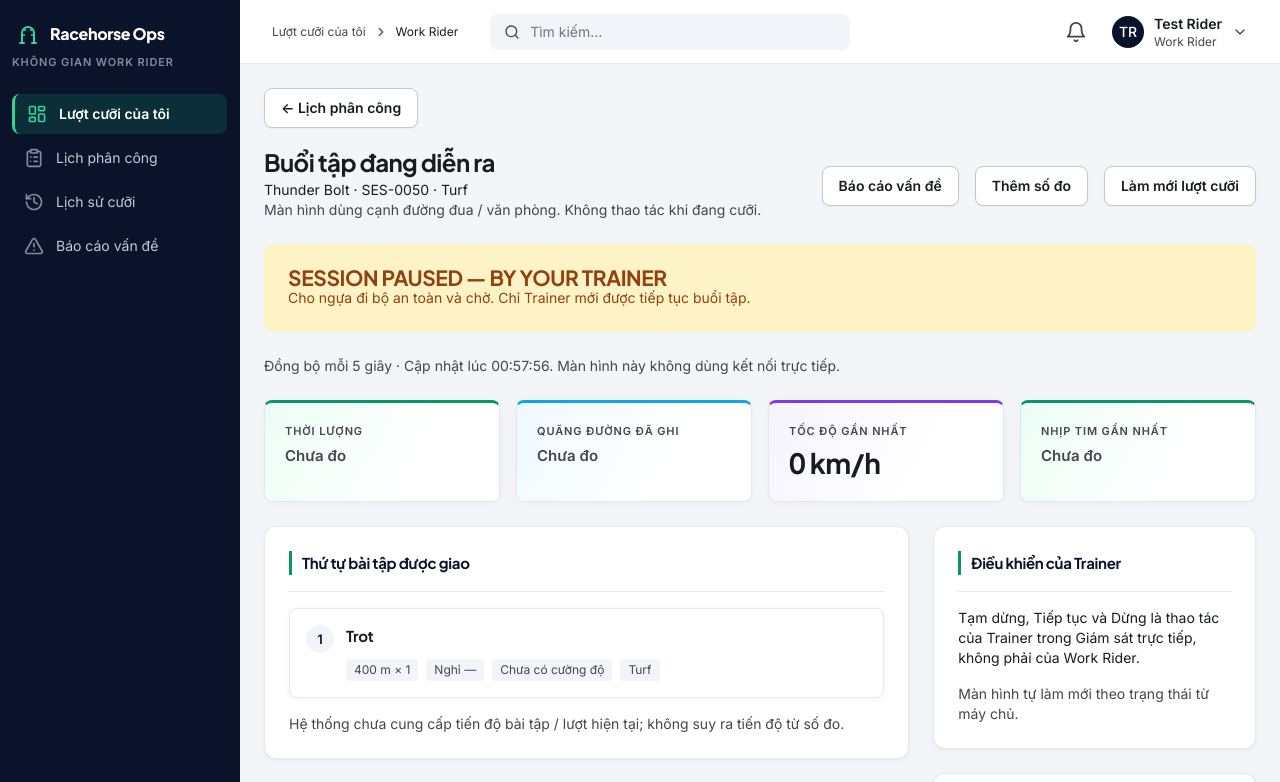
Scenario: sends metric zero unchanged and nullable blank values without inventing distance
This screenshot has width=1280, height=782.
Click the button "Thêm số đo": point(1031, 186) 975,166 -> 1088,206
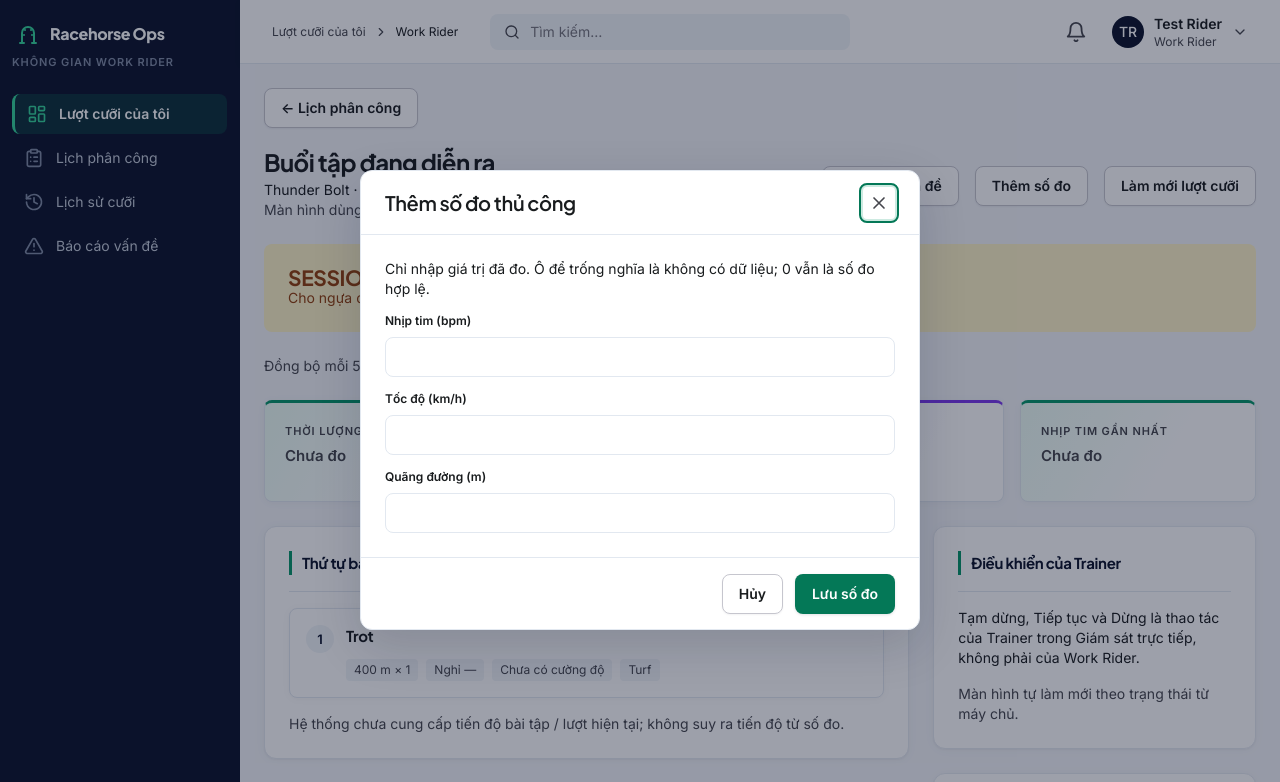
In the number field labelled "Tốc độ (km/h)": point(640, 435) 385,415 -> 895,455, type "0"
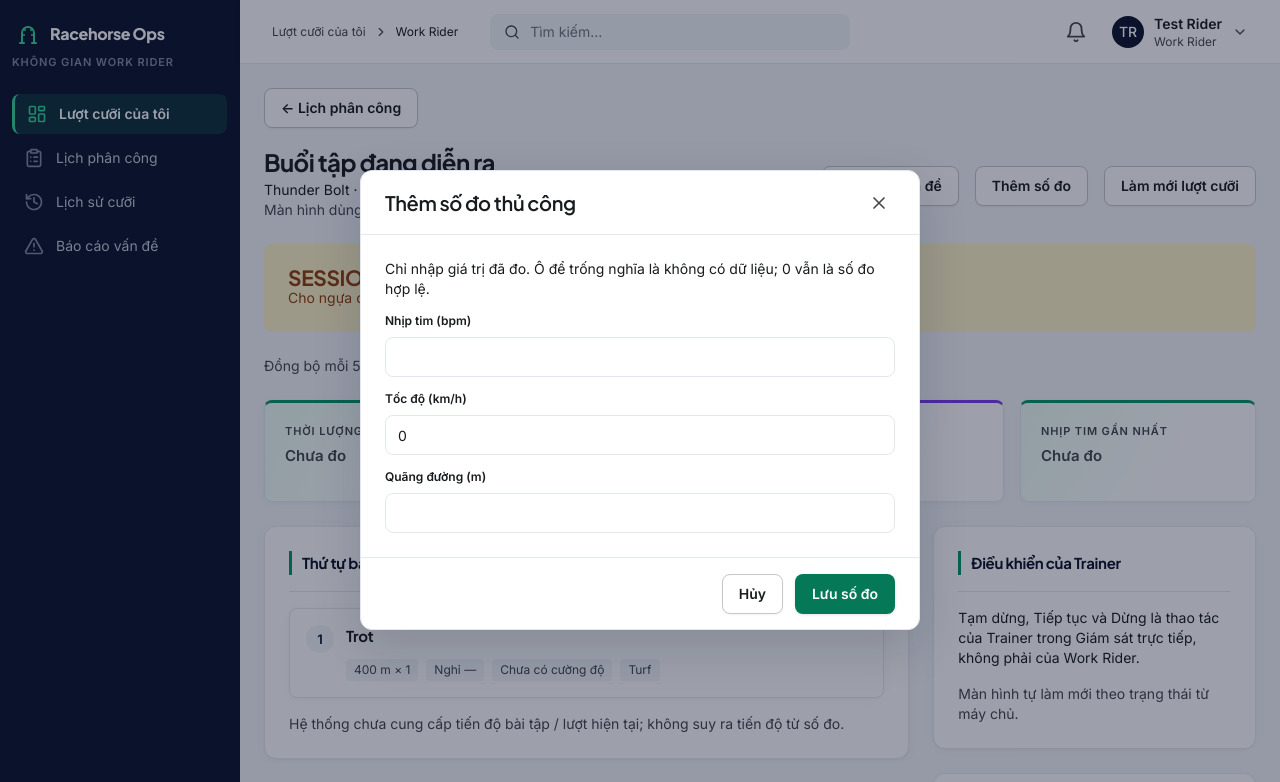
Click the button "Lưu số đo": point(845, 594) 795,574 -> 895,614
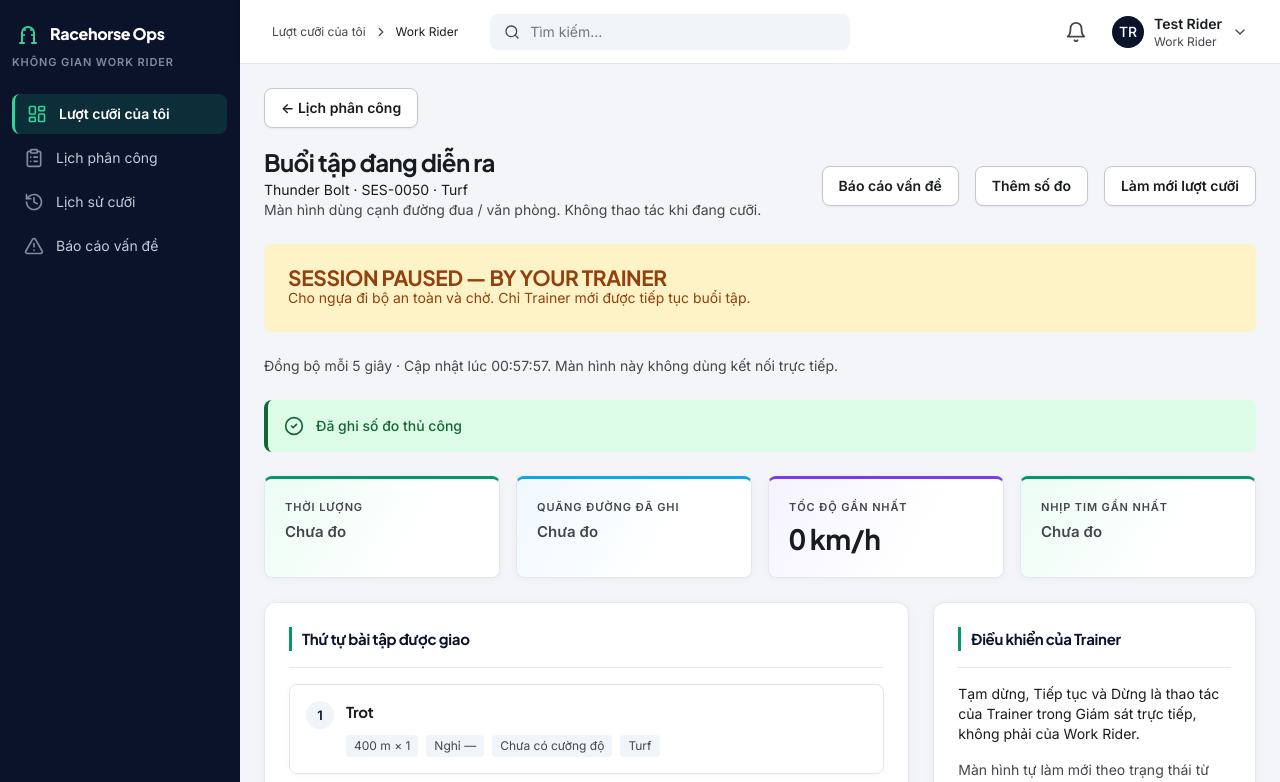
Now the text "Đã ghi số đo thủ công" is shown, box 316,417 -> 462,434
